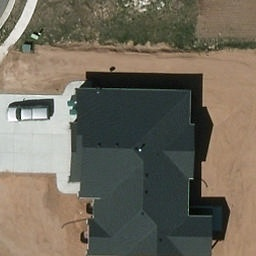car: (5, 104, 50, 122)
